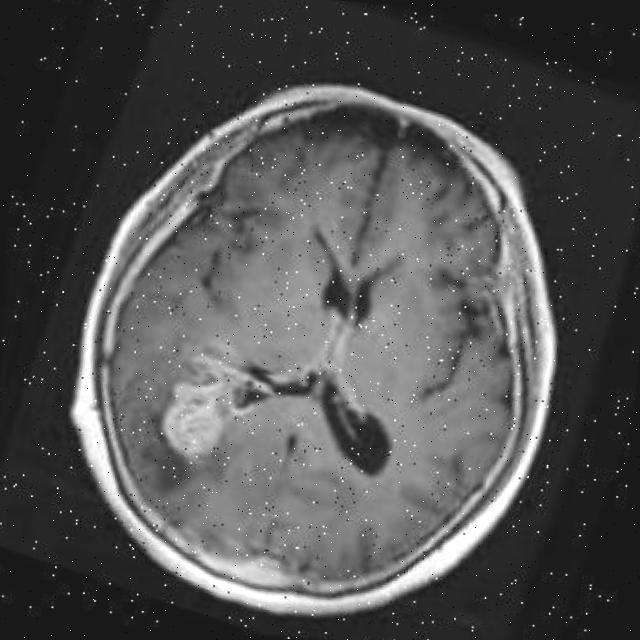LMCI: (127, 315, 280, 478)
